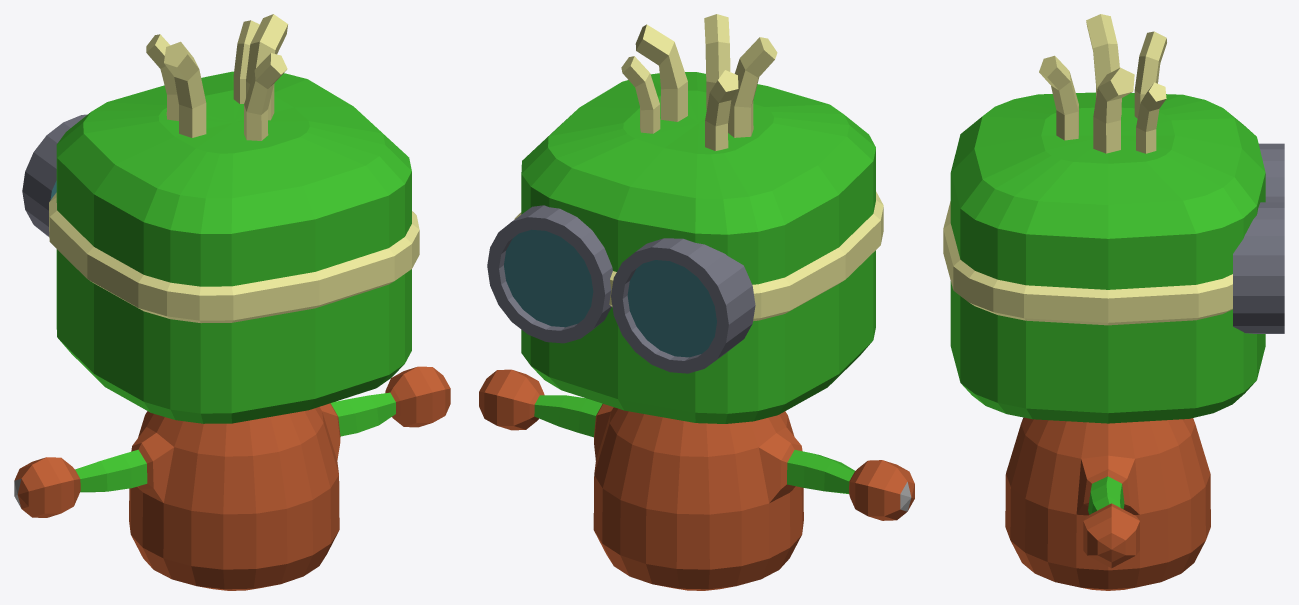
The model's file is Character_2.fbx.
3 views of the same model, side by side, from view 1: azimuth 30°, elevation 25°; view 2: azimuth 150°, elevation 25°; view 3: azimuth 270°, elevation 25° (orthographic). The views are drawn at different scales.
Visible parts, largest first — view 1: pCylinder21; view 2: pCylinder21; view 3: pCylinder21.
Boxes of the visible parts, x1,y1,x2,y2 form: pCylinder21: (14,14,450,590); pCylinder21: (479,14,914,590); pCylinder21: (943,14,1284,590).
Size of the model in its own units: 3.44 by 4.17 by 2.44.
